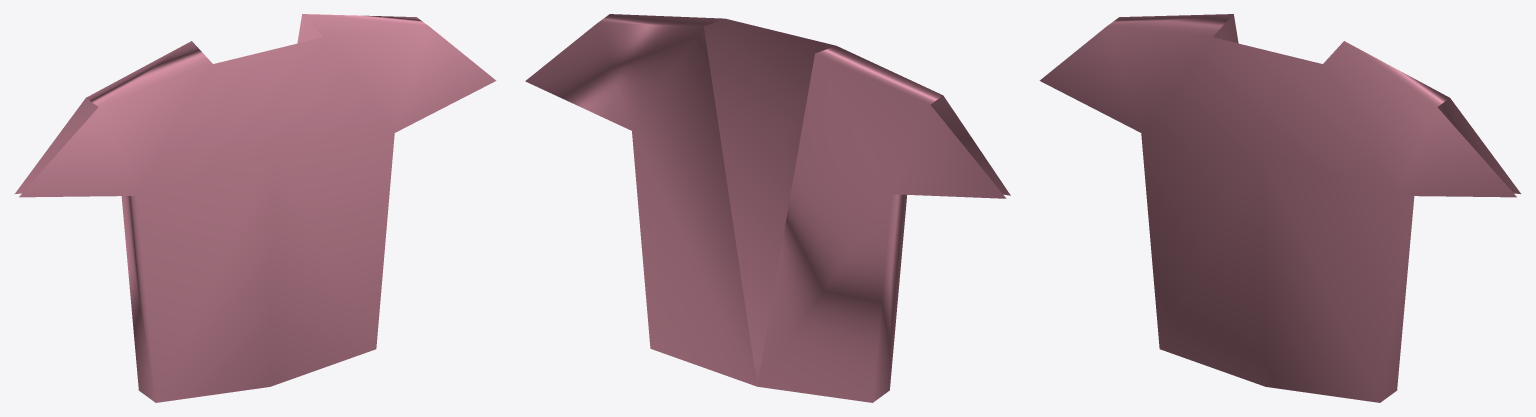
Rendered from summer-dress.glb.
The picture shows the model from 3 angles, left to right: view 1: azimuth 30°, elevation 25°; view 2: azimuth 150°, elevation 25°; view 3: azimuth 330°, elevation 25°; orthographic projection.
Parts seen in each view (by area): view 1: Floral_Flared_Dress; view 2: Floral_Flared_Dress; view 3: Floral_Flared_Dress.
Boxes of the visible parts, <box> form: Floral_Flared_Dress: <box>15,14,496,402</box>; Floral_Flared_Dress: <box>525,14,1010,402</box>; Floral_Flared_Dress: <box>1039,14,1520,402</box>.
Bounding box in the file's own units: 1.3 × 0.89 × 0.14.
